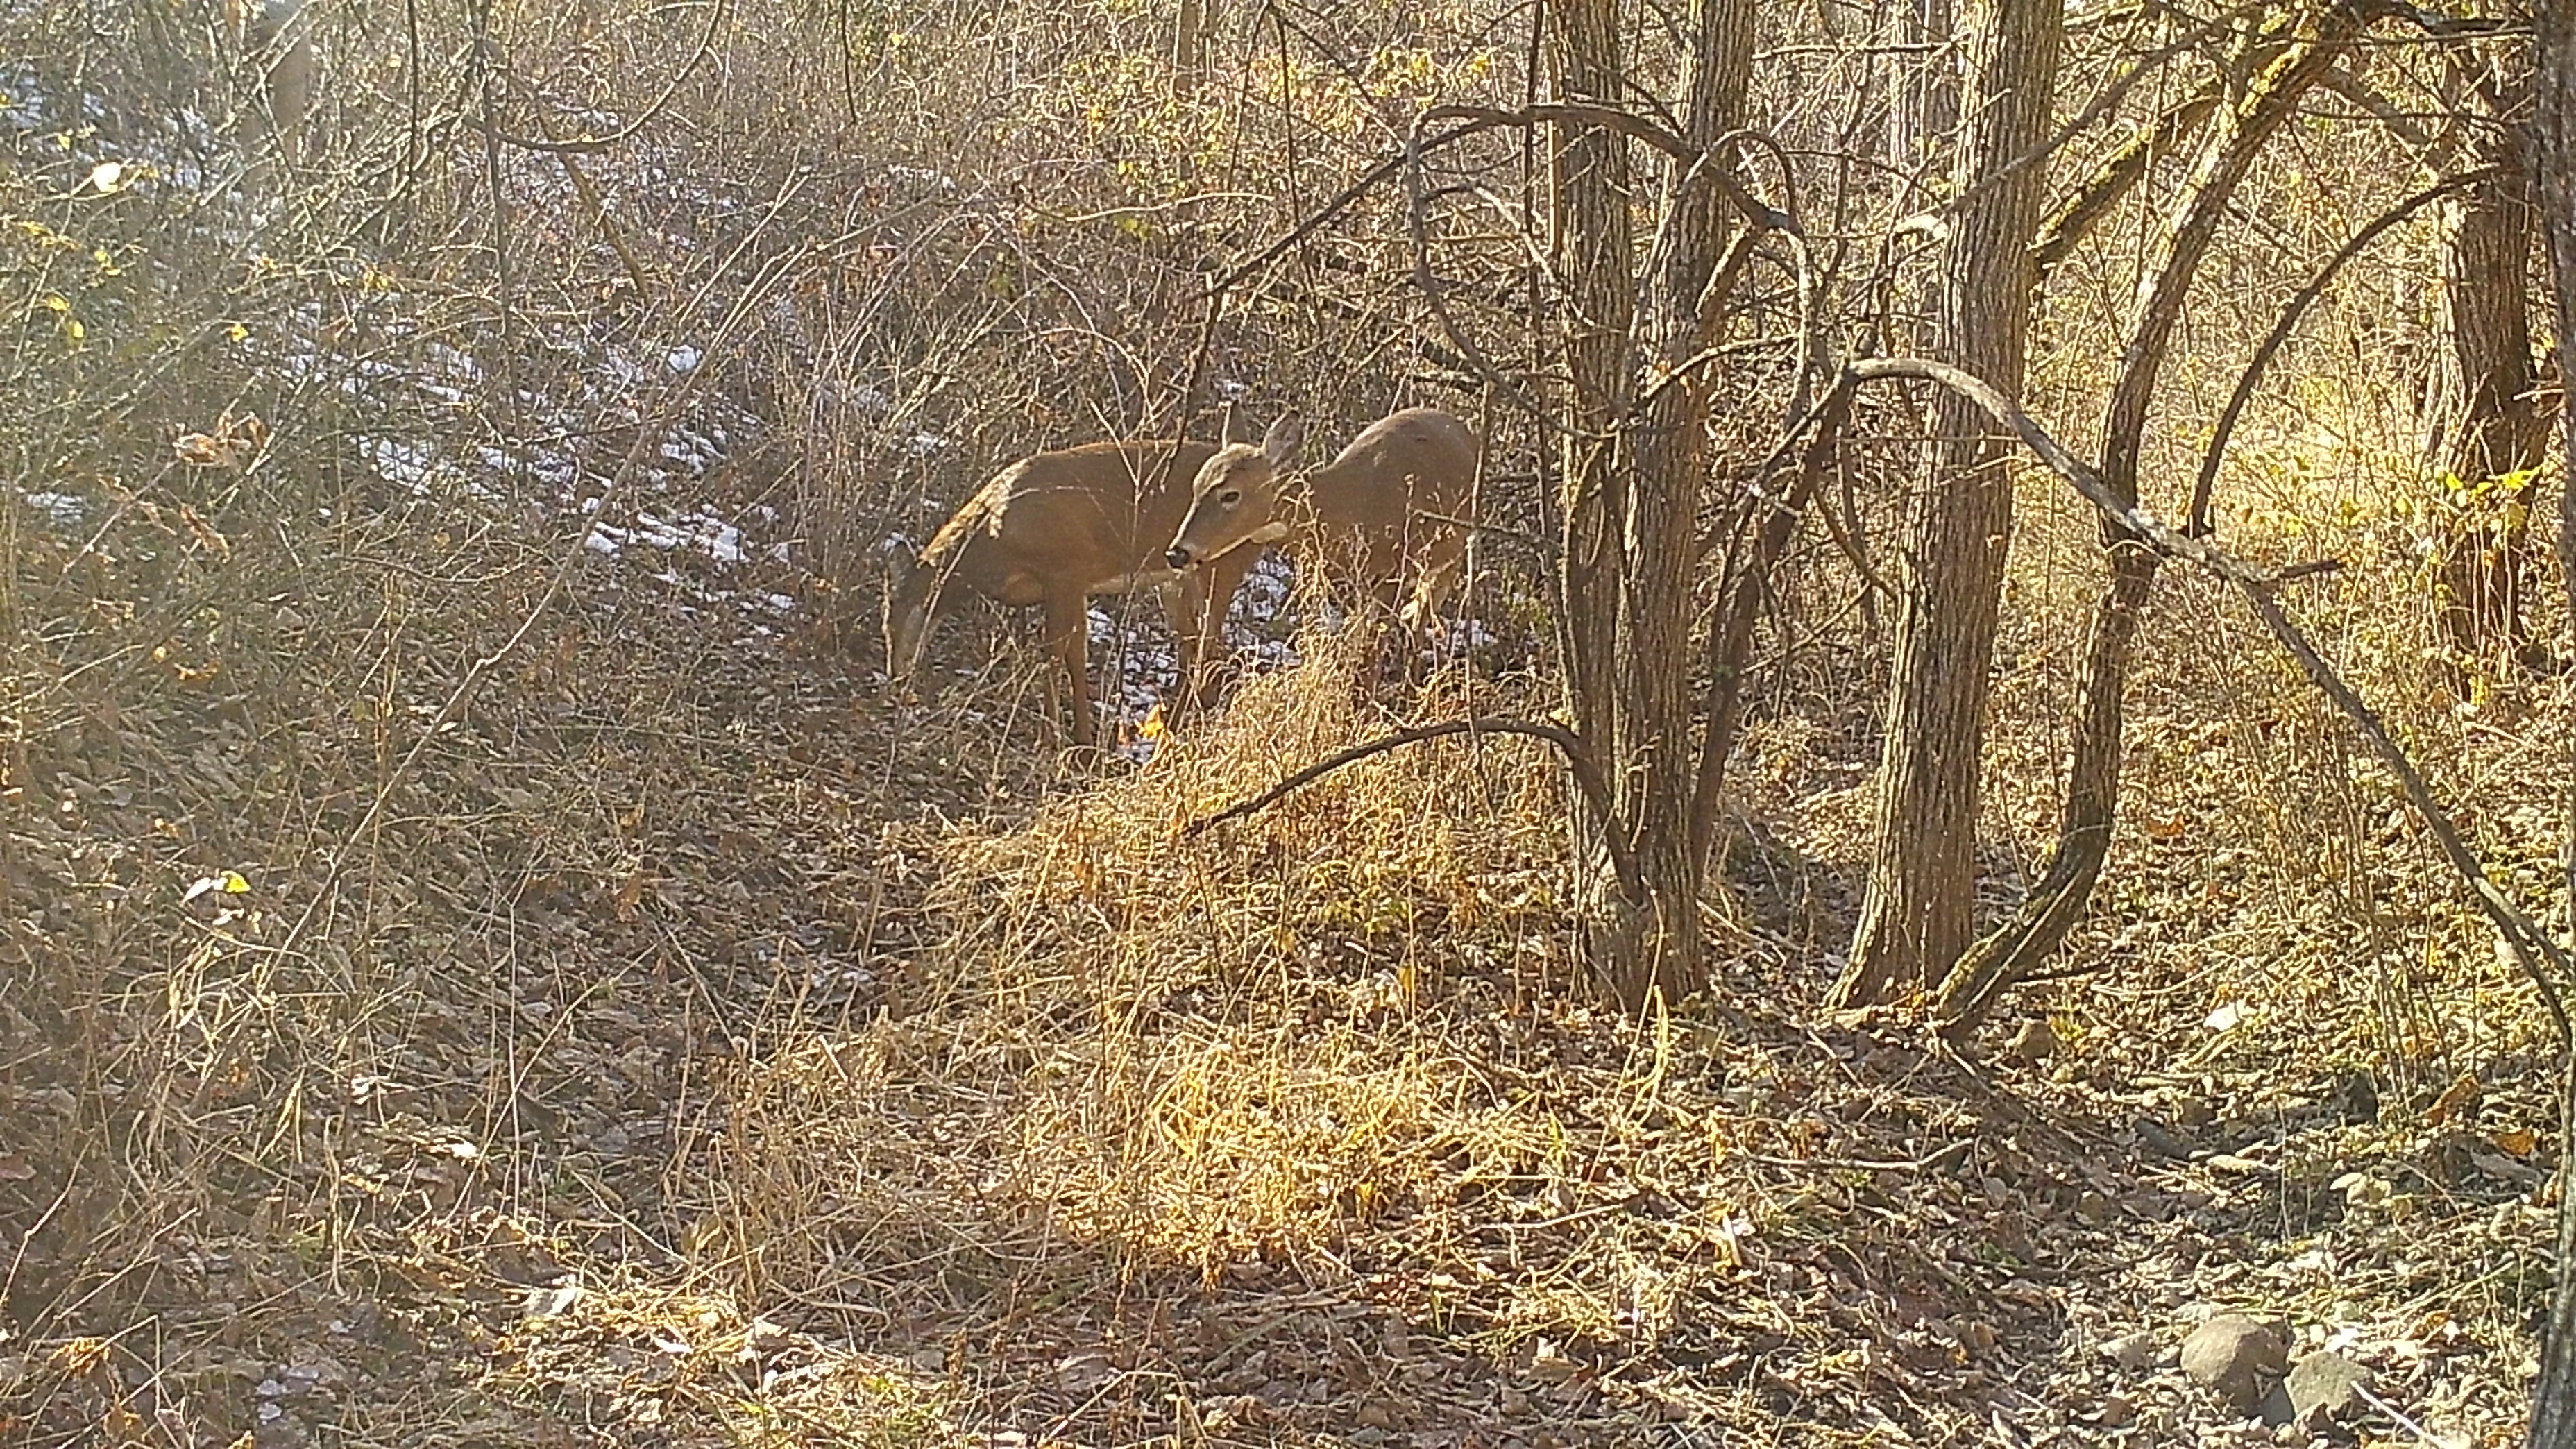Deer: (876, 437, 1269, 750)
DeerDoe: (1164, 393, 1484, 639)
